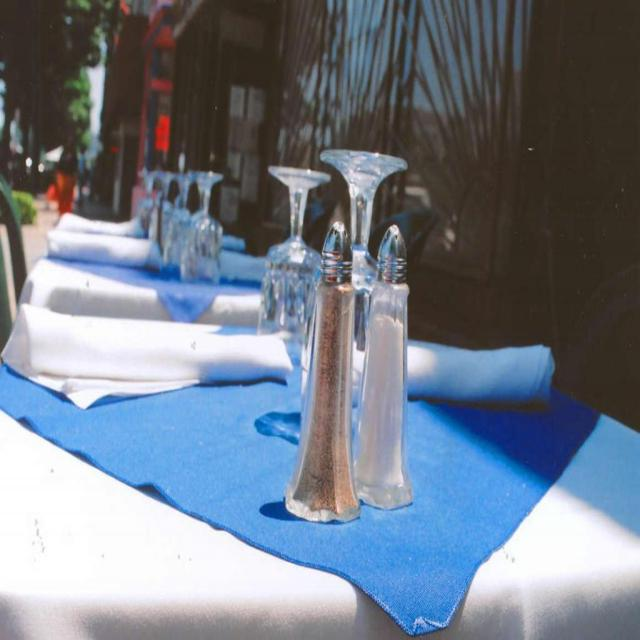table: (0, 334, 639, 639)
